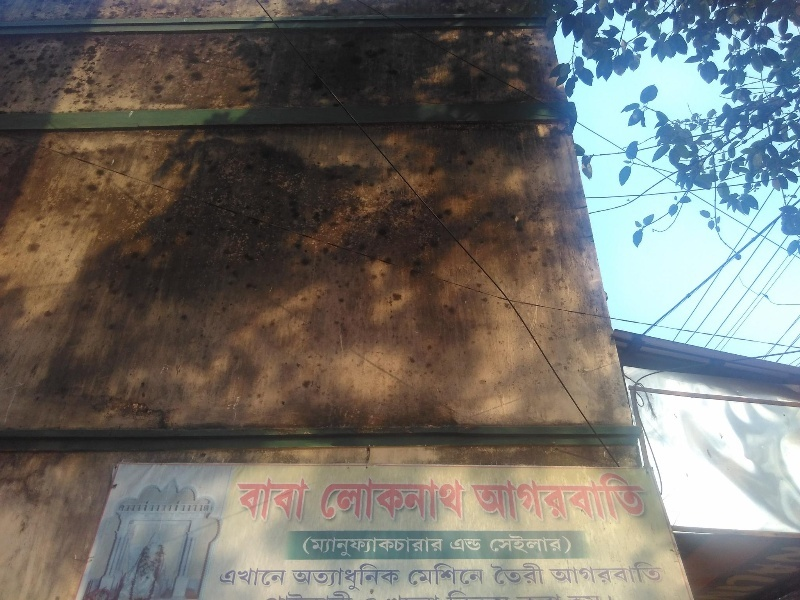text: (481, 470, 496, 523), (497, 470, 512, 523), (513, 470, 528, 523), (529, 470, 544, 523), (545, 470, 560, 523), (561, 470, 576, 523), (577, 470, 592, 523), (593, 470, 608, 523), (609, 470, 624, 523), (625, 470, 640, 523), (241, 476, 256, 522), (257, 476, 272, 522), (273, 476, 288, 522), (289, 476, 304, 522), (321, 475, 336, 521), (337, 475, 352, 521), (353, 475, 368, 521), (369, 475, 384, 521), (385, 475, 400, 521), (401, 475, 416, 521), (417, 475, 432, 521), (433, 475, 448, 521), (449, 475, 464, 521), (467, 470, 480, 523), (385, 563, 401, 592), (305, 563, 320, 592), (321, 563, 336, 592), (337, 563, 352, 592), (353, 563, 368, 592), (369, 563, 384, 592), (305, 476, 314, 522), (529, 562, 545, 586), (497, 562, 512, 586), (513, 562, 528, 586), (561, 561, 576, 585), (577, 561, 592, 585), (593, 561, 608, 585), (609, 561, 624, 585), (625, 561, 640, 585), (641, 561, 656, 585), (292, 563, 304, 592), (417, 563, 432, 586), (433, 563, 448, 586), (449, 563, 464, 586), (465, 563, 480, 586), (305, 536, 320, 558), (321, 536, 336, 558), (337, 536, 352, 558), (353, 536, 368, 558), (369, 536, 384, 558), (385, 536, 400, 558), (401, 536, 416, 558), (417, 536, 432, 558), (497, 534, 512, 554), (513, 534, 528, 554), (529, 534, 544, 554), (545, 534, 560, 554), (225, 567, 240, 586), (241, 567, 256, 586), (257, 567, 272, 586), (273, 567, 287, 586), (549, 561, 560, 585), (433, 536, 444, 558), (563, 536, 576, 554), (641, 470, 645, 523), (465, 539, 480, 552), (657, 561, 665, 585), (451, 539, 464, 552), (273, 589, 288, 600), (289, 589, 304, 600), (305, 589, 320, 600), (321, 589, 336, 600), (337, 589, 352, 600), (353, 589, 368, 600), (369, 589, 384, 600), (385, 589, 400, 600), (401, 589, 416, 600), (417, 589, 432, 600), (433, 589, 448, 600), (449, 589, 464, 600), (465, 589, 480, 600), (481, 589, 496, 600), (497, 589, 512, 600), (513, 589, 528, 600), (529, 589, 544, 600), (545, 589, 560, 600), (561, 589, 576, 600), (577, 589, 592, 600), (593, 589, 608, 600), (409, 563, 416, 586), (489, 534, 496, 554), (237, 476, 240, 522), (465, 475, 468, 521), (491, 562, 496, 586), (609, 589, 616, 600), (220, 567, 224, 586), (481, 563, 484, 586), (302, 536, 304, 558), (268, 589, 272, 600), (561, 534, 562, 554), (481, 539, 482, 552)
